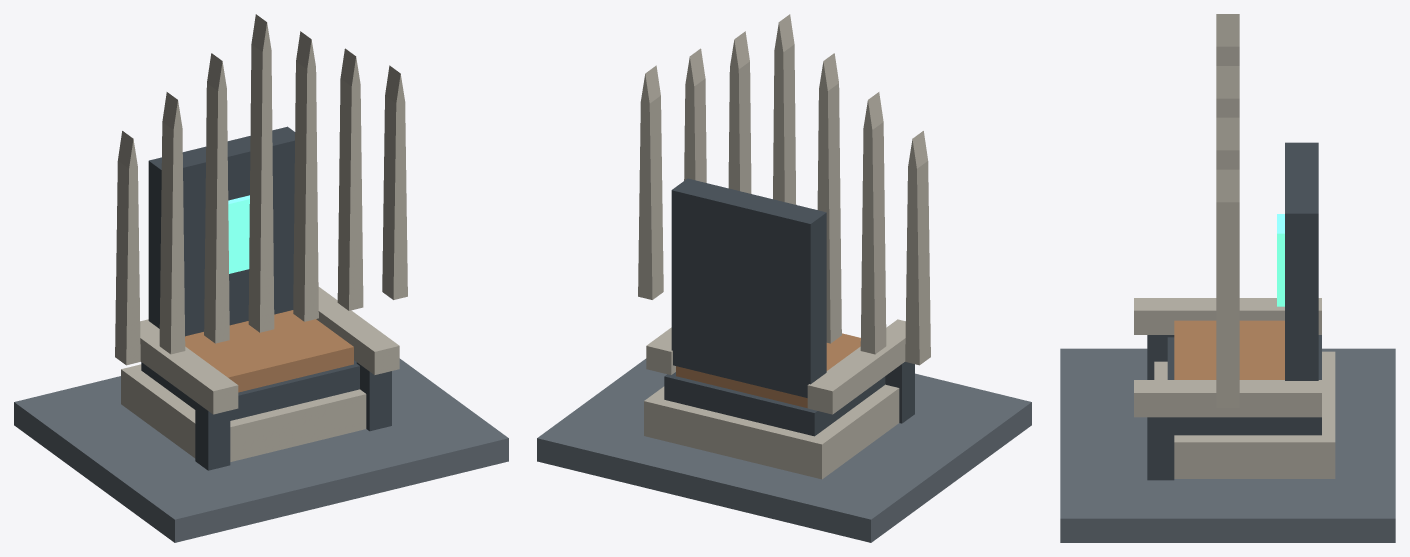
Rendered from SM_AEON_BlackThrone.glb.
3 views of the same model, side by side, from view 1: azimuth 30°, elevation 25°; view 2: azimuth 150°, elevation 25°; view 3: azimuth 270°, elevation 25° (orthographic). The views are drawn at different scales.
Parts seen in each view (by area): view 1: SM_AEON_BlackThrone; view 2: SM_AEON_BlackThrone; view 3: SM_AEON_BlackThrone.
Part boxes in pixels (x1,y1,x2,y2): SM_AEON_BlackThrone: (14,14,508,542); SM_AEON_BlackThrone: (537,14,1031,542); SM_AEON_BlackThrone: (1060,14,1395,542).
Size of the model in its own units: 6 by 7.3 by 5.
